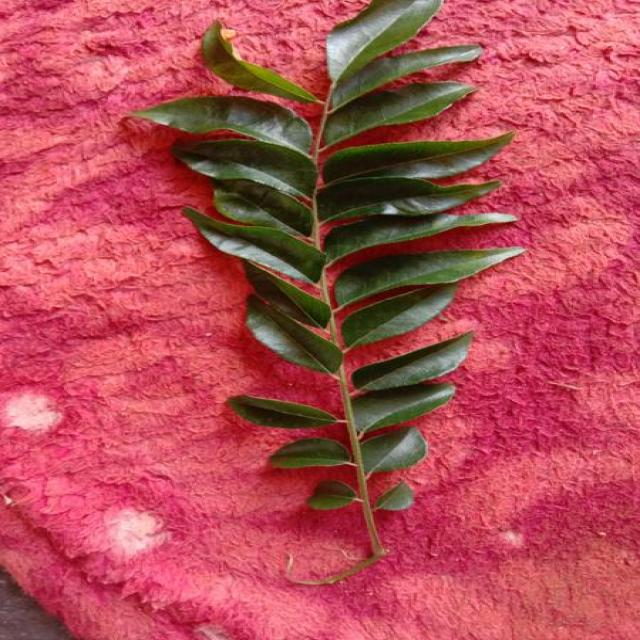curry: (135, 0, 522, 554)
